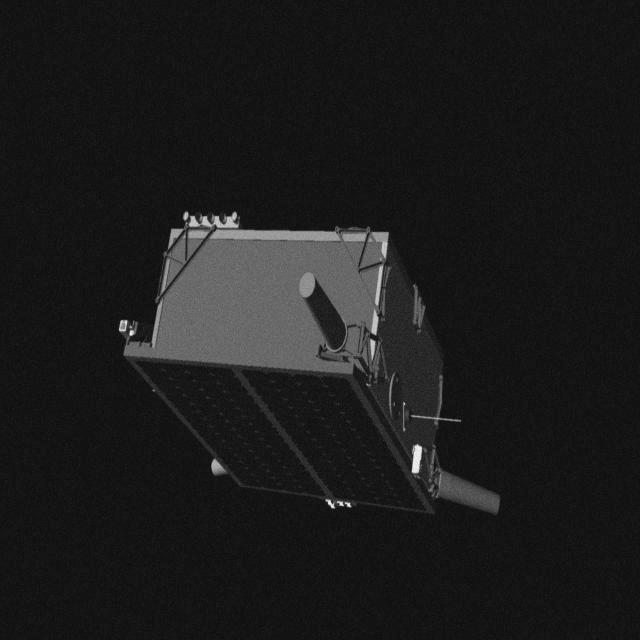medium_debris: (106, 212, 502, 534)
